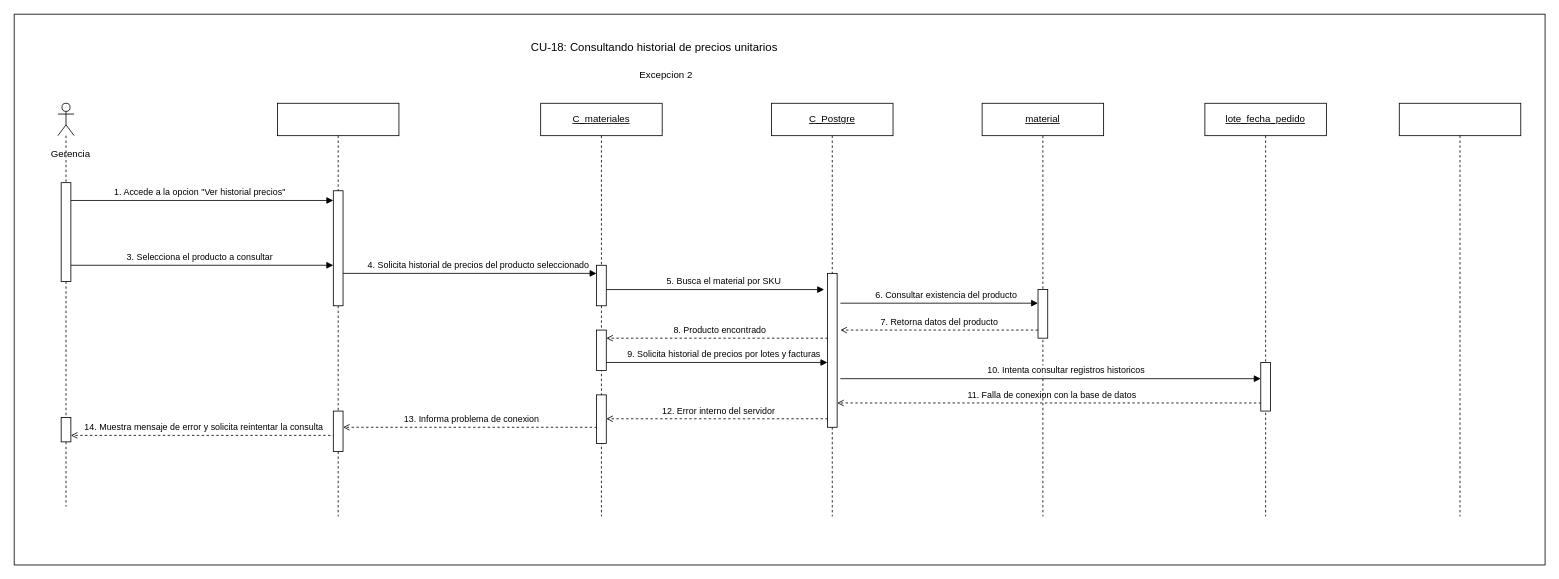
Image size: 1559x579. Some labels were removed from this diagram. The shapes that lost their labels are listed below. From the top down, each one's box as (x1, y1, x2, y2) in pixels, then its label:
(277, 102, 399, 516): V_Productos
(1398, 102, 1521, 516): material_proovedor
